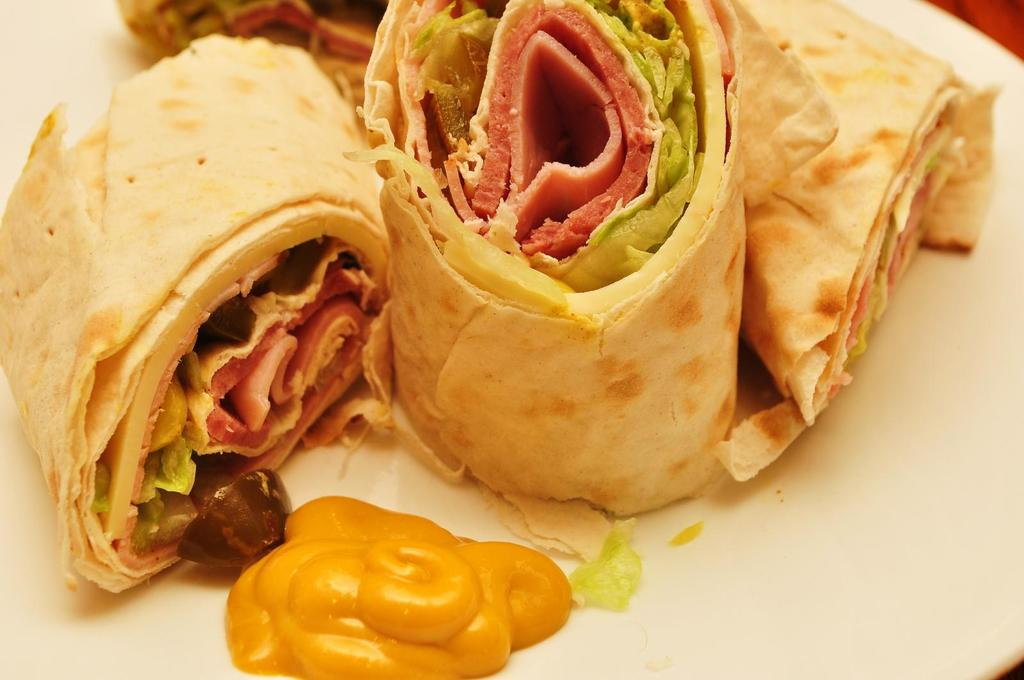taco: (1, 1, 1011, 677), (394, 0, 753, 517)
